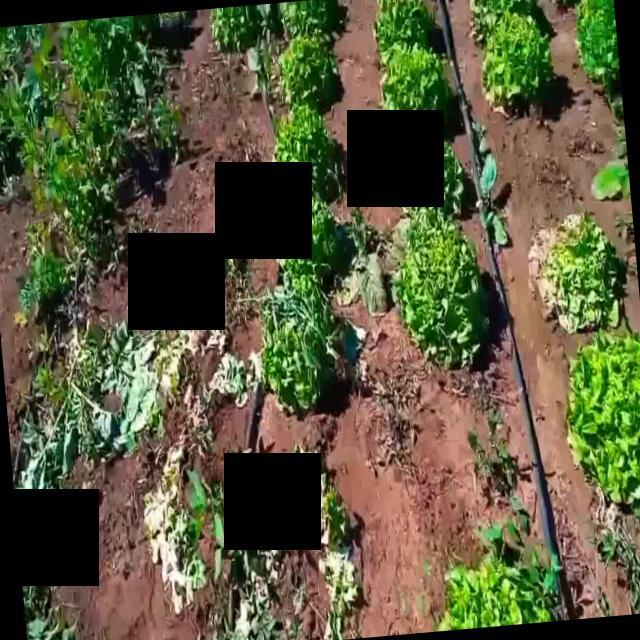Lettuce: (388, 217, 488, 367), (565, 328, 640, 513), (524, 210, 627, 335), (435, 546, 555, 638), (263, 285, 337, 419), (479, 13, 554, 112), (274, 202, 351, 282), (275, 100, 333, 195), (400, 138, 467, 219), (377, 42, 452, 114), (274, 35, 336, 109), (575, 0, 622, 80), (370, 0, 437, 45), (213, 0, 264, 54), (275, 0, 341, 38), (468, 0, 540, 34)
